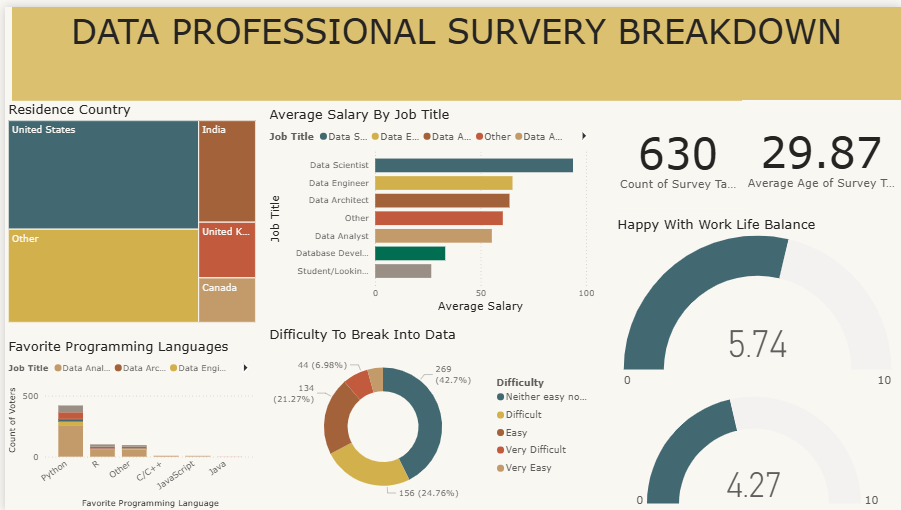

The page's visual inventory and layout, read from the dashboard file:
{"tool":"powerbi","page":{"name":"Page 1","canvas":[1280,720],"ordinal":0},"visuals":[{"type":"textbox","box":[9.4,0,1269.9,134.2],"z":0},{"type":"card","fields":{"Values":["CountNonNull(Data Professional Survey.Unique ID)"]},"box":[869.3,134.2,183.3,160.6],"z":1000},{"type":"card","fields":{"Values":["Avg(Data Professional Survey.Q10 - Current Age)"]},"box":[1052.6,132.3,226.8,162.5],"z":2000},{"type":"barChart","title":"Average Salary By Job Title","fields":{"Category":["Data Professional Survey.Q1 - Which Title Best Fits your Current Role?.1"],"Y":["Avg(Data Professional Survey.Average Salary)"],"Series":["Data Professional Survey.Q1 - Which Title Best Fits your Current Role?.1"]},"box":[372.3,141.7,474.3,300.5],"z":3000},{"type":"columnChart","title":"Favorite Programming Languages","fields":{"Category":["Data Professional Survey.Q5 - Favorite Programming Language.1"],"Y":["CountNonNull(Data Professional Survey.Unique ID)"],"Series":["Data Professional Survey.Q1 - Which Title Best Fits your Current Role?.1"]},"box":[0,472.4,362.8,247.6],"z":4000},{"type":"treemap","title":"Residence Country","fields":{"Group":["Data Professional Survey.Q11 - Which Country do you live in?.1"],"Values":["CountNonNull(Data Professional Survey.Q11 - Which Country do you live in?.1)"]},"box":[0,134.2,362.8,321.3],"z":5000},{"type":"gauge","title":"Happiness With Salary","fields":{"Y":["Avg(Data Professional Survey.Q6 - How Happy are you in your Current Position with the following? (Salary))"],"MinValue":["Min(Data Professional Survey.Q6 - How Happy are you in your Current Position with the following? (Salary))"],"MaxValue":["Max(Data Professional Survey.Q6 - How Happy are you in your Current Position with the following? (Salary))"]},"box":[869.3,529.1,410.1,190.9],"z":6000},{"type":"gauge","title":"Happy With Work Life Balance","fields":{"Y":["Avg(Data Professional Survey.Q6 - How Happy are you in your Current Position with the following? (Work/Life Balance))"],"MinValue":["Min(Data Professional Survey.Q6 - How Happy are you in your Current Position with the following? (Work/Life Balance))1"],"MaxValue":["Max(Data Professional Survey.Q6 - How Happy are you in your Current Position with the following? (Work/Life Balance))2"]},"box":[869.3,298.6,410.1,253.2],"z":7000},{"type":"donutChart","title":"Difficulty To Break Into Data","fields":{"Category":["Data Professional Survey.Q7 - How difficult was it for you to break into Data?"],"Y":["CountNonNull(Data Professional Survey.Q7 - How difficult was it for you to break into Data?)"]},"box":[372.3,455.4,474.3,264.6],"z":8000}]}

Visuals, with their boxes in screenshot pixels (x1, y1, x2, y2), scaled from the page's 1280x720 canvas onto the 901x510 screenshot:
textbox: 7 0 900 95
card - CountNonNull(Data Professional Survey.Unique ID): 612 95 741 209
card - Avg(Data Professional Survey.Q10 - Current Age): 741 94 900 209
"Average Salary By Job Title" barChart: 262 100 596 313
"Favorite Programming Languages" columnChart: 0 335 255 509
"Residence Country" treemap: 0 95 255 323
"Happiness With Salary" gauge: 612 375 900 509
"Happy With Work Life Balance" gauge: 612 212 900 391
"Difficulty To Break Into Data" donutChart: 262 323 596 509
